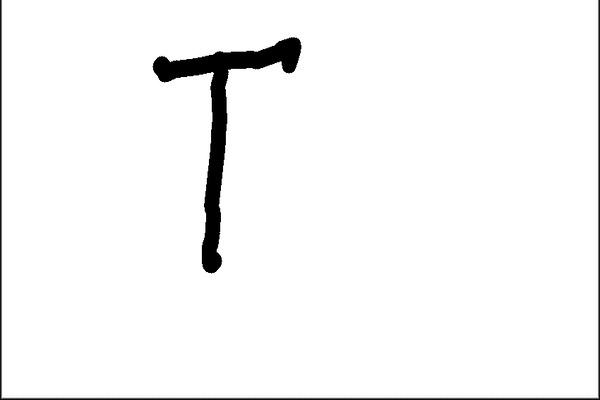T: (150, 29, 299, 279)
